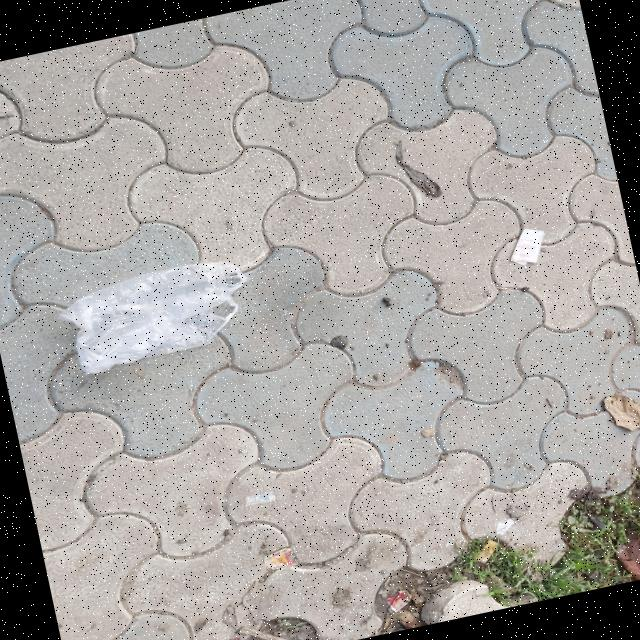Normal paper: (510, 229, 543, 265)
Other carton: (264, 547, 297, 569), (498, 519, 516, 535)
Other plastic: (474, 538, 498, 563), (387, 590, 413, 612)
Single-use carrier bag: (58, 260, 250, 374)
Unlabeled litter: (247, 491, 277, 505)
